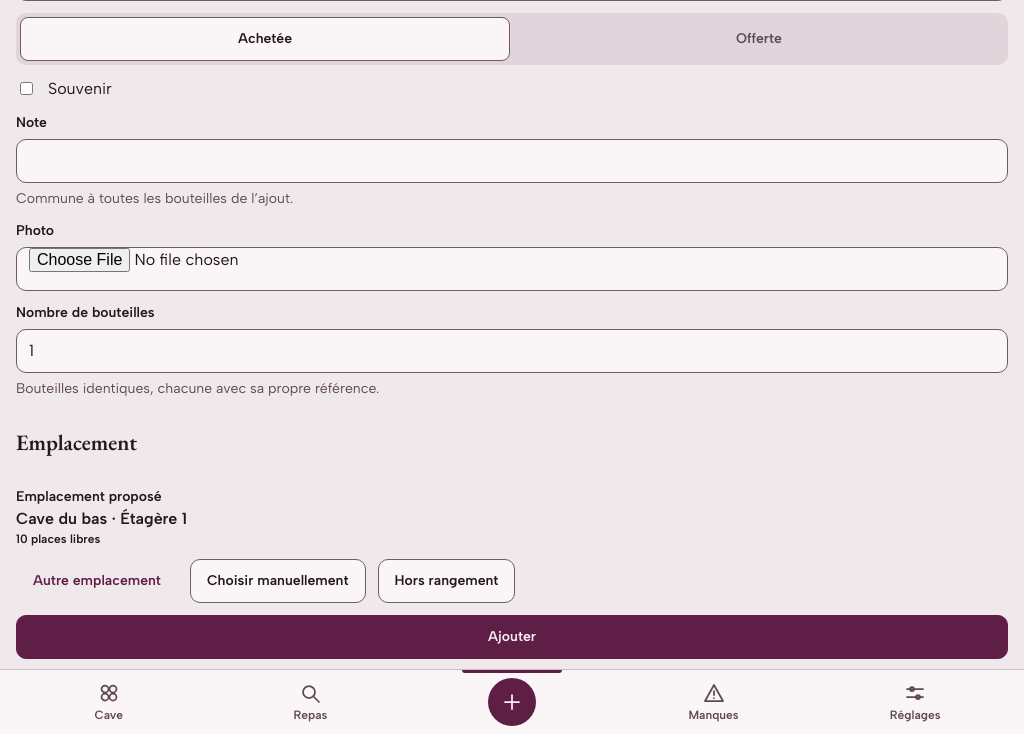
Test: Ajout de bouteilles : formulaire (CdC §3.3) › ajout en masse : l’emplacement proposé a la place pour toutes les bouteilles
The width and height of the screenshot is (1024, 734).
(page scrolled)
Replace the text in the field labelled "Nombre de bouteilles" with "5". click: {"x": 512, "y": 350}
box: [16, 328, 1008, 372]
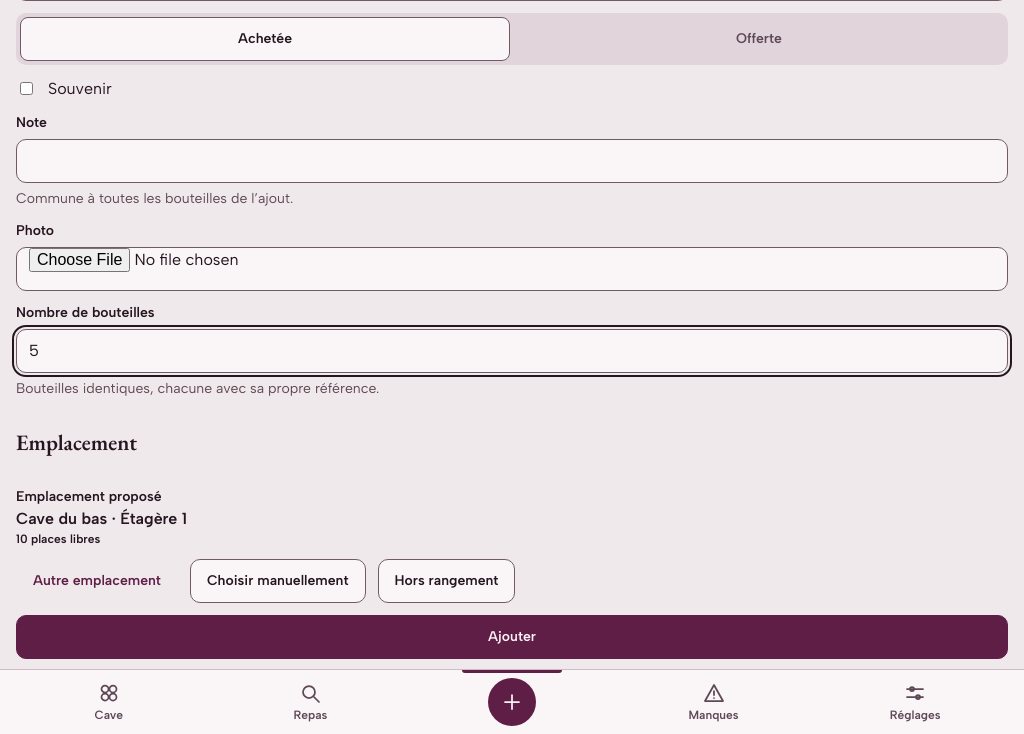
Expected: the text "Cave du bas · Étagère 1" is shown, [16, 509, 187, 528]
Click the button "Autre emplacement". click: {"x": 97, "y": 581}
box: [16, 559, 178, 603]
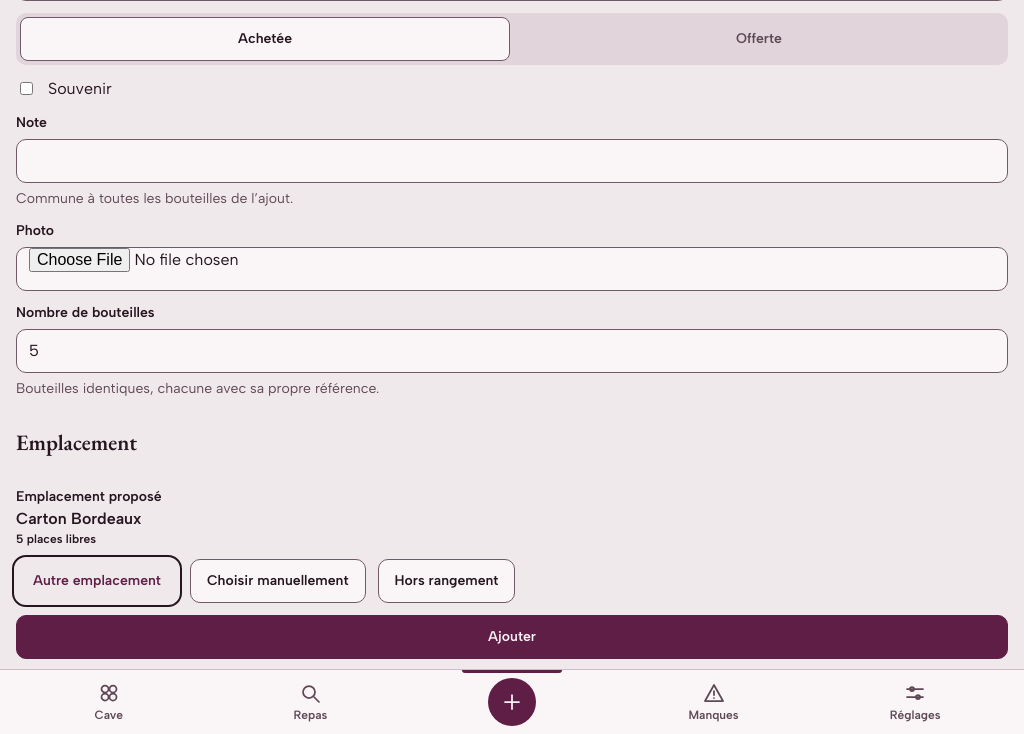
Now the text "Carton Bordeaux" is shown, box [16, 509, 142, 528]
Replace the text in the field labelled "Nombre de bouteilles" with "11". click: {"x": 512, "y": 350}
box: [16, 328, 1008, 372]
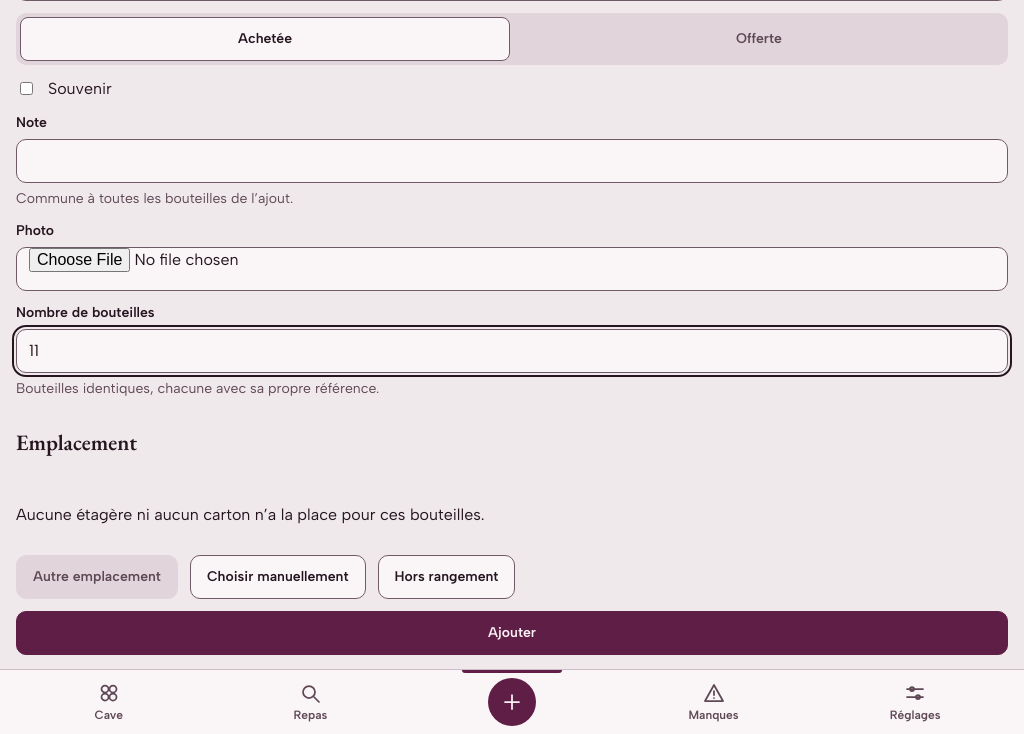
Now the text "Aucune étagère ni aucun carton n’a la place pour ces bouteilles." is shown, box [16, 505, 484, 524]
